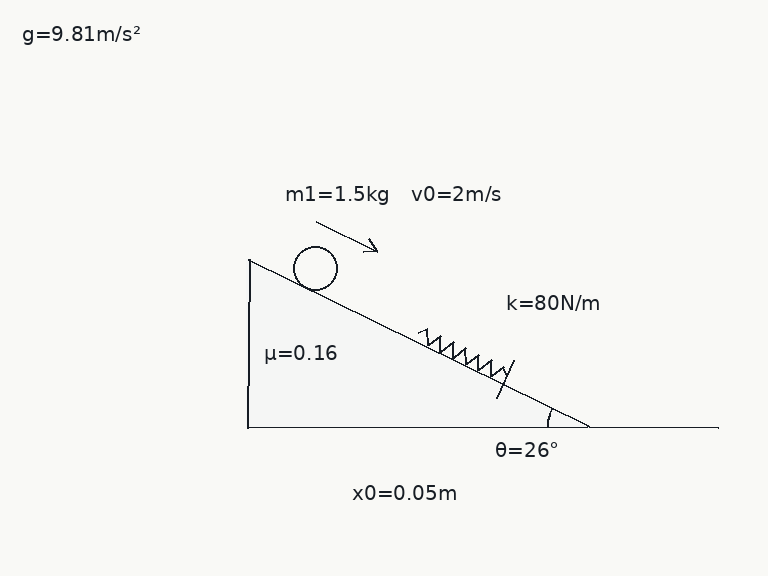ball: (291, 244, 339, 292)
ramp: (244, 257, 590, 428)
spring: (416, 328, 509, 378)
